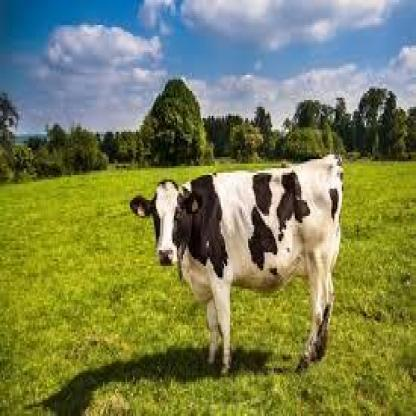cow: (129, 154, 344, 376)
